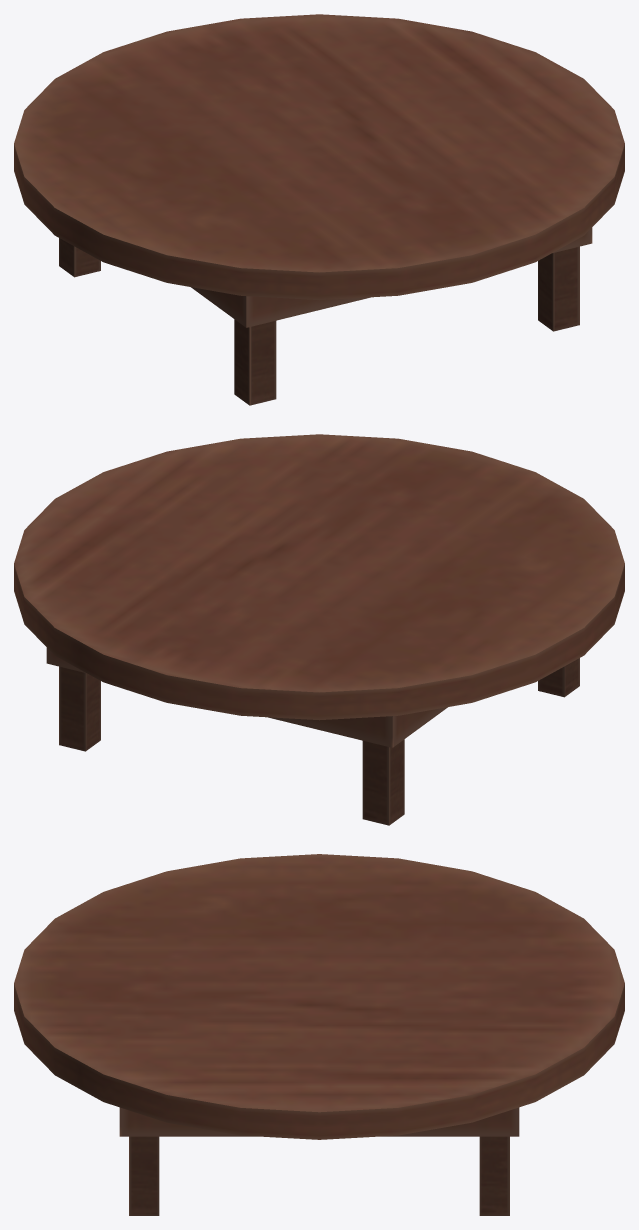
The model's file is tukueB01.fbx.
3 views of the same model, one above another, from view 1: azimuth 30°, elevation 25°; view 2: azimuth 150°, elevation 25°; view 3: azimuth 270°, elevation 25° (orthographic).
Parts seen in each view (by area): view 1: tukueB01; view 2: tukueB01; view 3: tukueB01.
Part boxes in pixels (<box>): tukueB01: <box>14,14,624,405</box>; tukueB01: <box>14,434,624,825</box>; tukueB01: <box>14,854,624,1215</box>.
Size of the model in its own units: 200 by 55 by 200.
